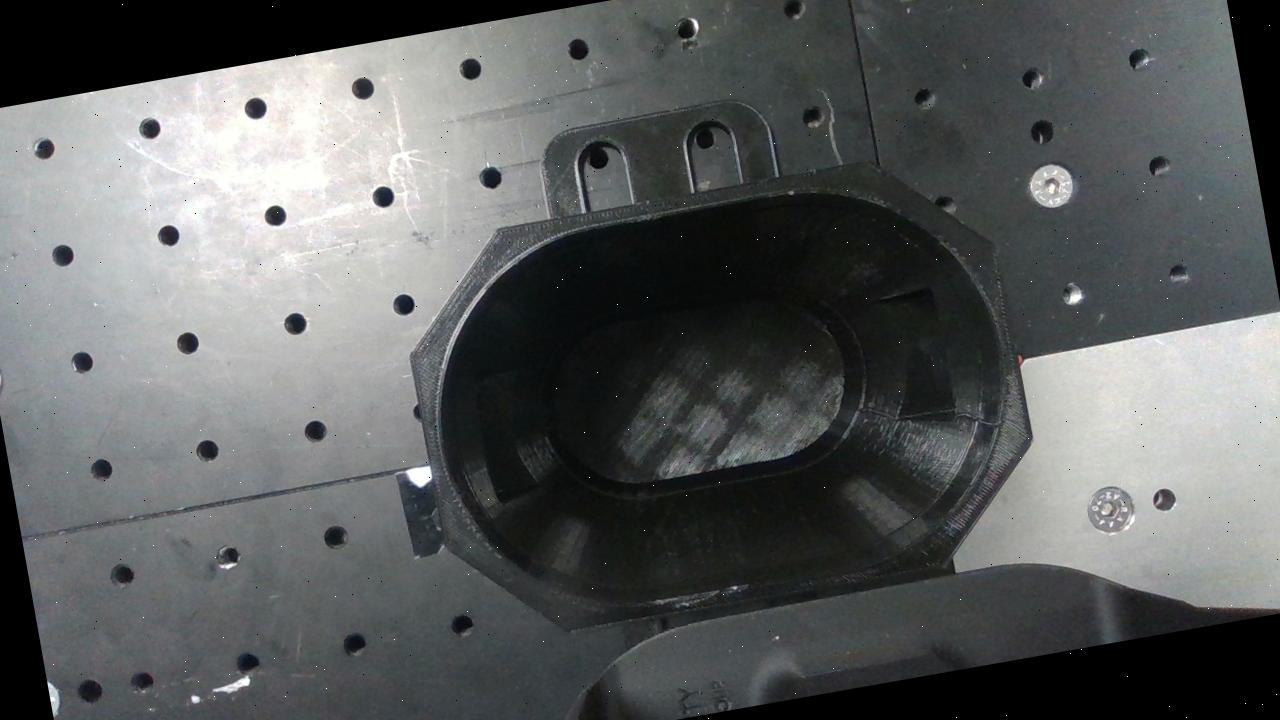small_interface: (390, 142, 1054, 653)
